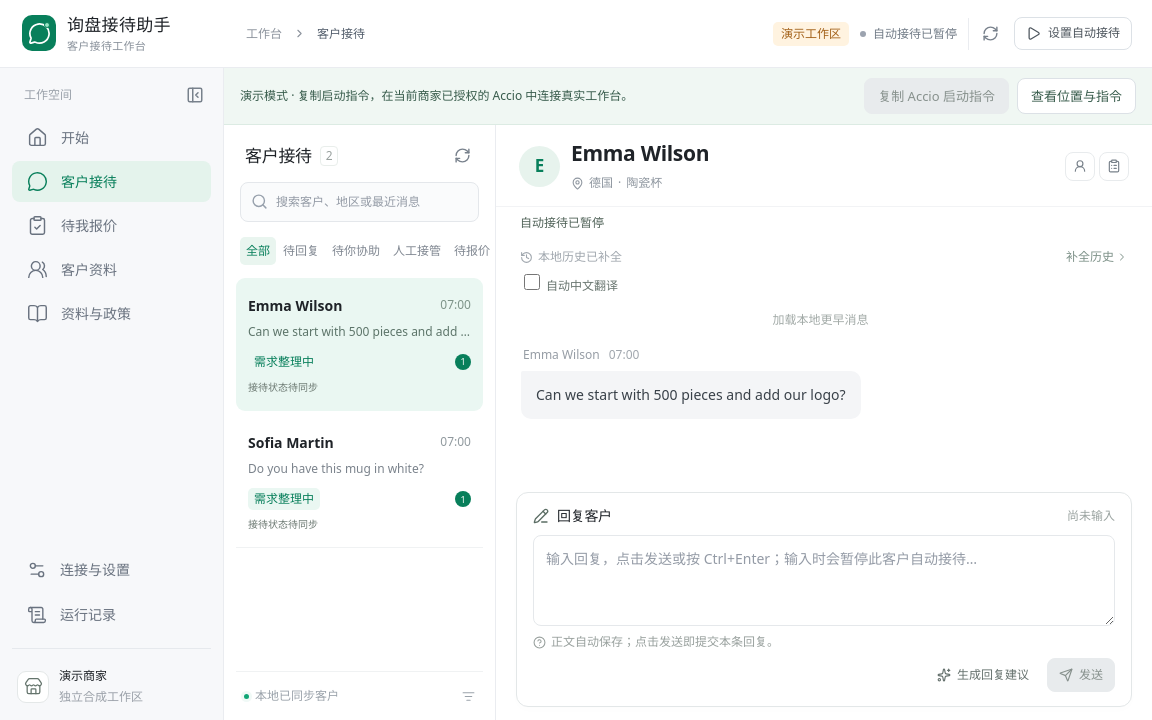
Test: seller-side reply activity › keeps another customer usable while the first generation RPC is pending
expect the text box named "回复正文" is shown: met, box [533,535,1115,626]
Click the button "生成回复建议".
click(983, 675)  # box [925,658,1041,692]
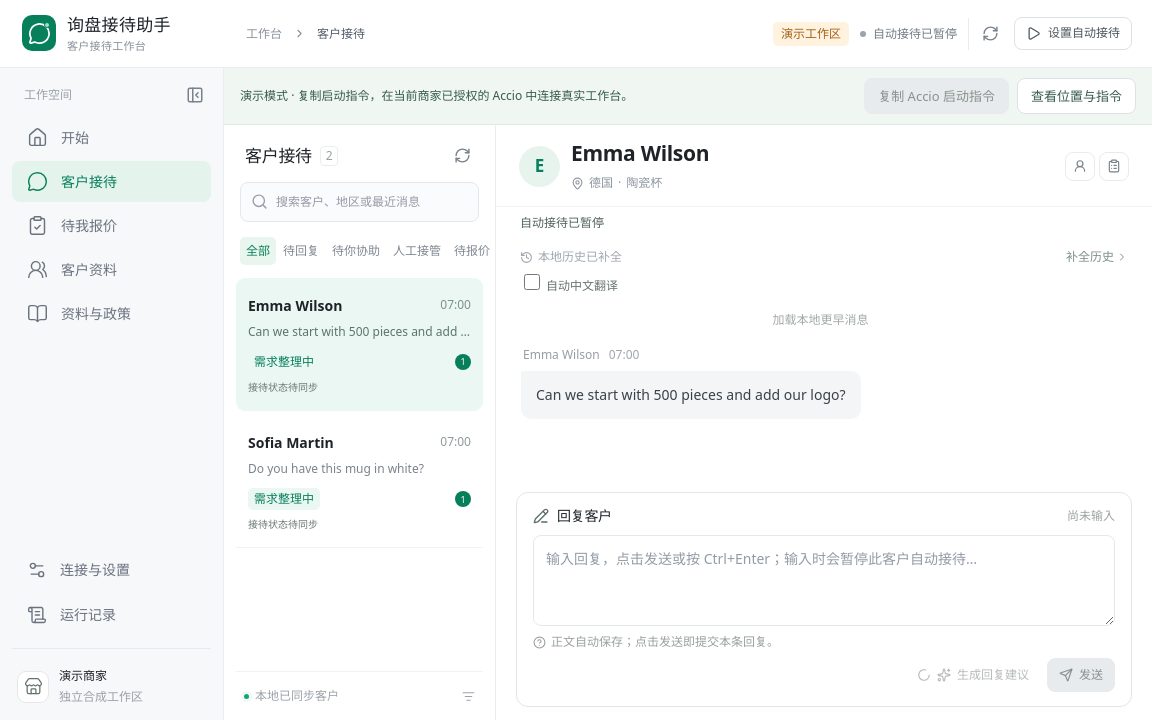
Click the button "Sofia Martin".
click(360, 482)  # box [236,415,483,548]
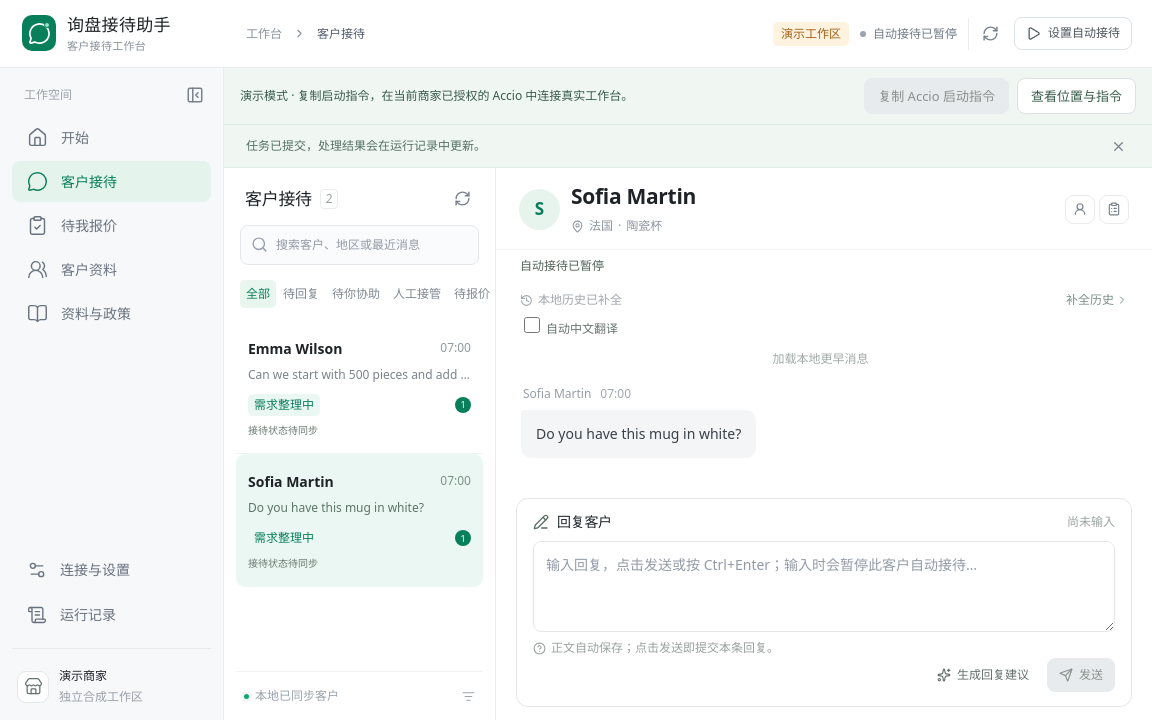
expect the element named "Sofia Martin 的客户接待" is shown: met, box [496,168,1151,719]
expect the button "生成回复建议" is enabled: met, box [925,658,1041,692]
